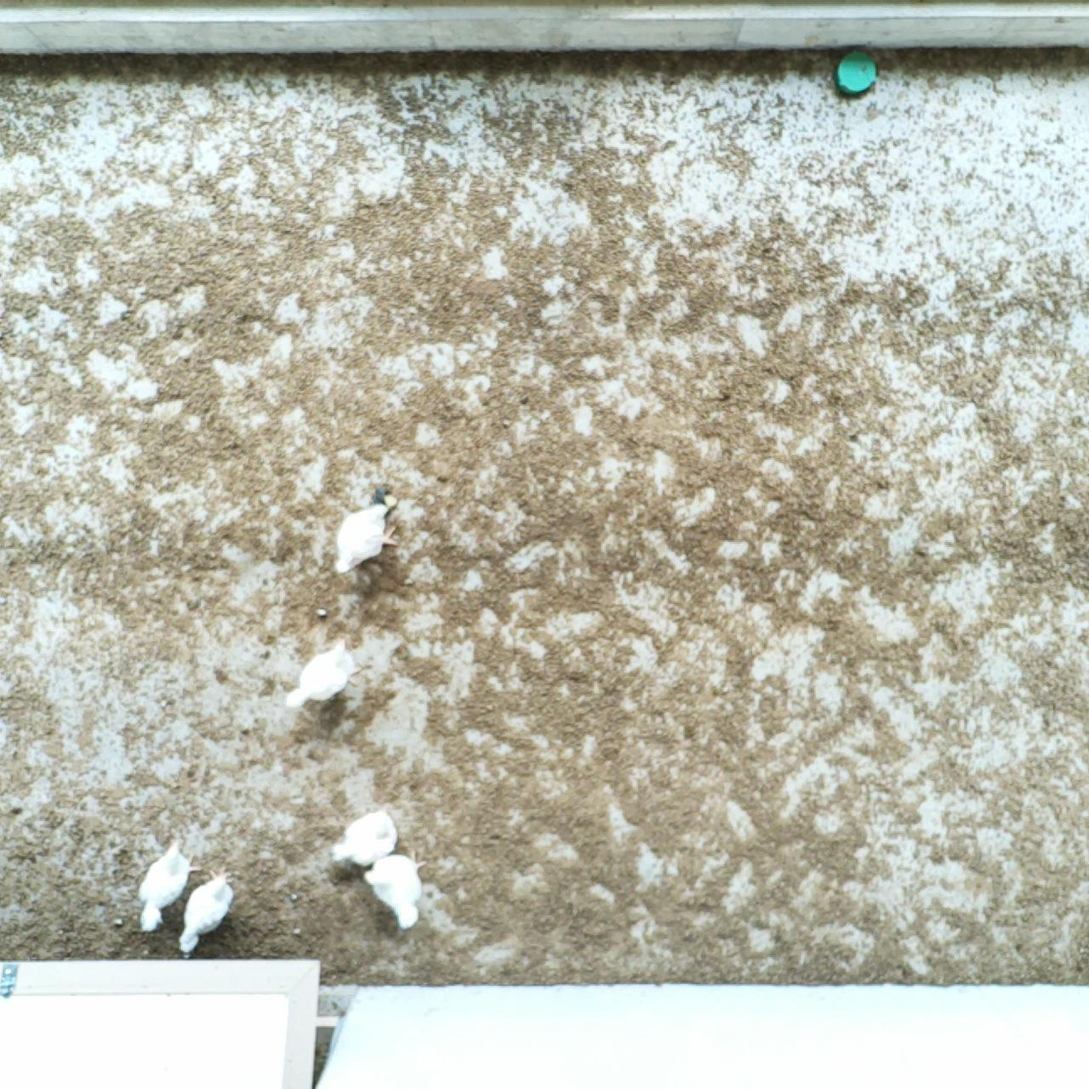chicken: (173, 865, 242, 953), (329, 494, 401, 576), (135, 837, 194, 935), (285, 638, 360, 713), (360, 854, 431, 928), (328, 808, 401, 871)
